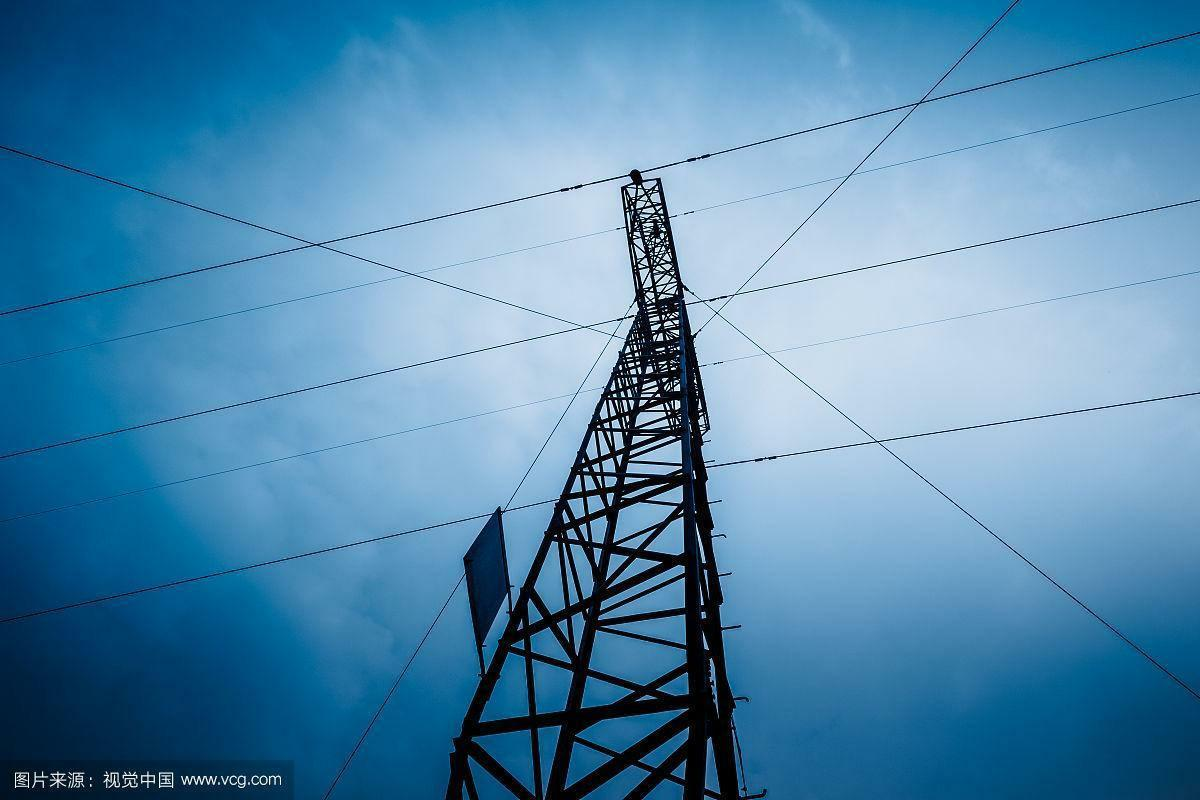power_tower: (411, 159, 750, 800)
